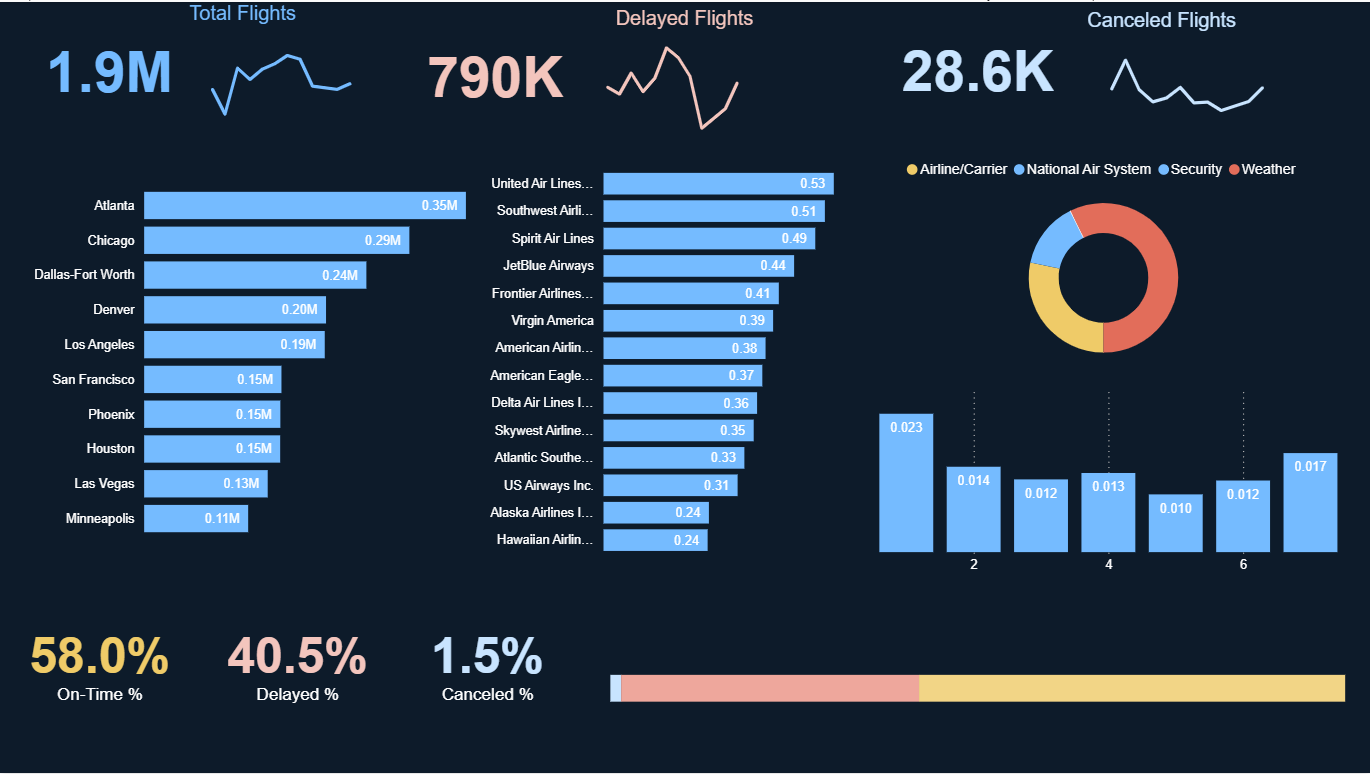

Layout of this report page (visuals, bound fields, positions):
{"tool":"powerbi","page":{"name":"Page 1","canvas":[1280,720],"ordinal":0},"visuals":[{"type":"card","fields":{"Values":["flights.Total Flights"]},"box":[0,10.3,204.6,102.8],"z":0},{"type":"lineChart","title":"Total Flights","fields":{"Y":["flights.Total Flights"],"Category":["flights.MONTH"]},"box":[171.9,0,204.6,136.4],"z":1000},{"type":"card","fields":{"Values":["flights.Delayed Flights"]},"box":[376.5,10.3,172.8,111.2],"z":2000},{"type":"lineChart","title":"Delayed Flights","fields":{"Category":["flights.MONTH"],"Y":["flights.Delayed Flights"]},"box":[541.9,4.7,195.3,123.3],"z":3000},{"type":"lineChart","title":"Canceled Flights ","fields":{"Category":["flights.MONTH"],"Y":["flights.Canceled Flights"]},"box":[1010.9,6.5,222.4,106.5],"z":4000},{"type":"card","fields":{"Values":["Sum(flights.CANCELLED)"]},"box":[816.6,7.5,194.3,105.6],"z":5000},{"type":"card","fields":{"Values":["flights.On-Time %"]},"box":[0,557.8,186.9,116.8],"z":6000},{"type":"card","fields":{"Values":["flights.Delayed %"]},"box":[180.3,557.8,196.2,116.8],"z":7000},{"type":"card","fields":{"Values":["flights.Canceled %"]},"box":[370,561.5,171.9,110.2],"z":8000},{"type":"clusteredBarChart","fields":{"Y":["flights.Total Flights"],"Category":["airports.CITY"]},"box":[18.7,151.4,444.7,362.5],"z":9000},{"type":"clusteredBarChart","fields":{"Category":["airlines.AIRLINE"],"Y":["flights.Delayed %"]},"box":[441,136.4,440.1,392.4],"z":10000},{"type":"donutChart","fields":{"Y":["Sum(flights.CANCELLED)"],"Series":["cancellation_codes.CANCELLATION_DESCRIPTION"]},"box":[807.2,136.4,447.5,214],"z":11000},{"type":"columnChart","fields":{"Category":["flights.DAY_OF_WEEK"],"Y":["flights.Canceled %"]},"box":[816.8,350.4,438,191.6],"z":12000},{"type":"barChart","fields":{"Y":["flights.Total Flights"],"Series":["flights.Status"]},"box":[565.3,582.1,715,112.1],"z":13000}]}

Visuals, with their boxes in screenshot pixels (x1, y1, x2, y2), scaled from the page's 1280x720 canvas onto the 1370x774 screenshot:
card - flights.Total Flights: 0,11,219,122
"Total Flights" lineChart: 184,0,403,147
card - flights.Delayed Flights: 403,11,588,131
"Delayed Flights" lineChart: 580,5,789,138
"Canceled Flights " lineChart: 1082,7,1320,121
card - Sum(flights.CANCELLED): 874,8,1082,122
card - flights.On-Time %: 0,600,200,725
card - flights.Delayed %: 193,600,403,725
card - flights.Canceled %: 396,604,580,722
clusteredBarChart - flights.Total Flights x airports.CITY: 20,163,496,552
clusteredBarChart - airlines.AIRLINE x flights.Delayed %: 472,147,943,568
donutChart - Sum(flights.CANCELLED) x cancellation_codes.CANCELLATION_DESCRIPTION: 864,147,1343,377
columnChart - flights.DAY_OF_WEEK x flights.Canceled %: 874,377,1343,583
barChart - flights.Total Flights x flights.Status: 605,626,1369,746
